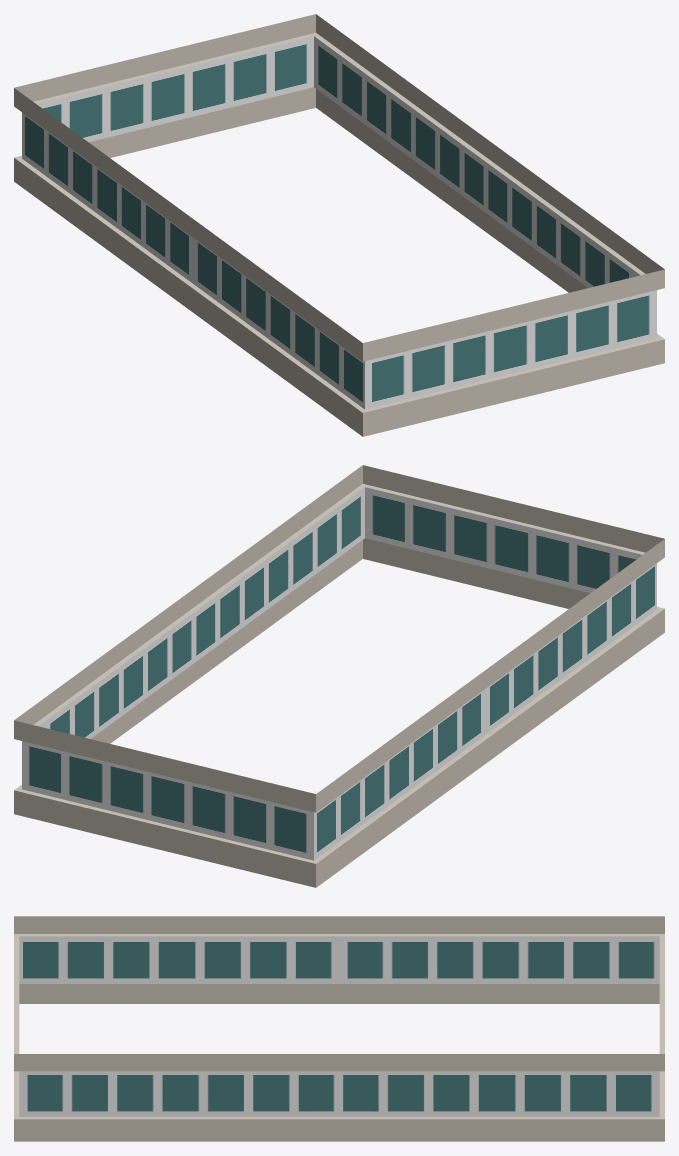
Rendered from Town_Bld-Lrg_FloorA.FBX.
3 renders of one model, top to bottom at view 1: azimuth 30°, elevation 25°; view 2: azimuth 150°, elevation 25°; view 3: azimuth 270°, elevation 25°, orthographic. The views are drawn at different scales.
Visible parts, largest first — view 1: Town_Bld-Lrg_FloorA; view 2: Town_Bld-Lrg_FloorA; view 3: Town_Bld-Lrg_FloorA.
Part boxes in pixels (bbox=[...]): Town_Bld-Lrg_FloorA: bbox=[14, 14, 664, 436]; Town_Bld-Lrg_FloorA: bbox=[14, 465, 664, 887]; Town_Bld-Lrg_FloorA: bbox=[14, 916, 664, 1141].
Bounding box in the file's own units: 600 × 178 × 1200.
